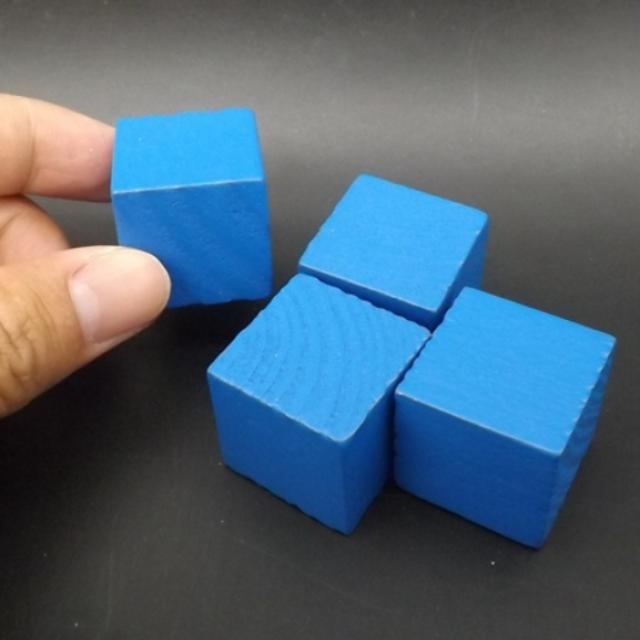bluecube: (395, 286, 621, 553), (206, 273, 434, 536), (110, 107, 273, 311), (297, 170, 490, 334)
